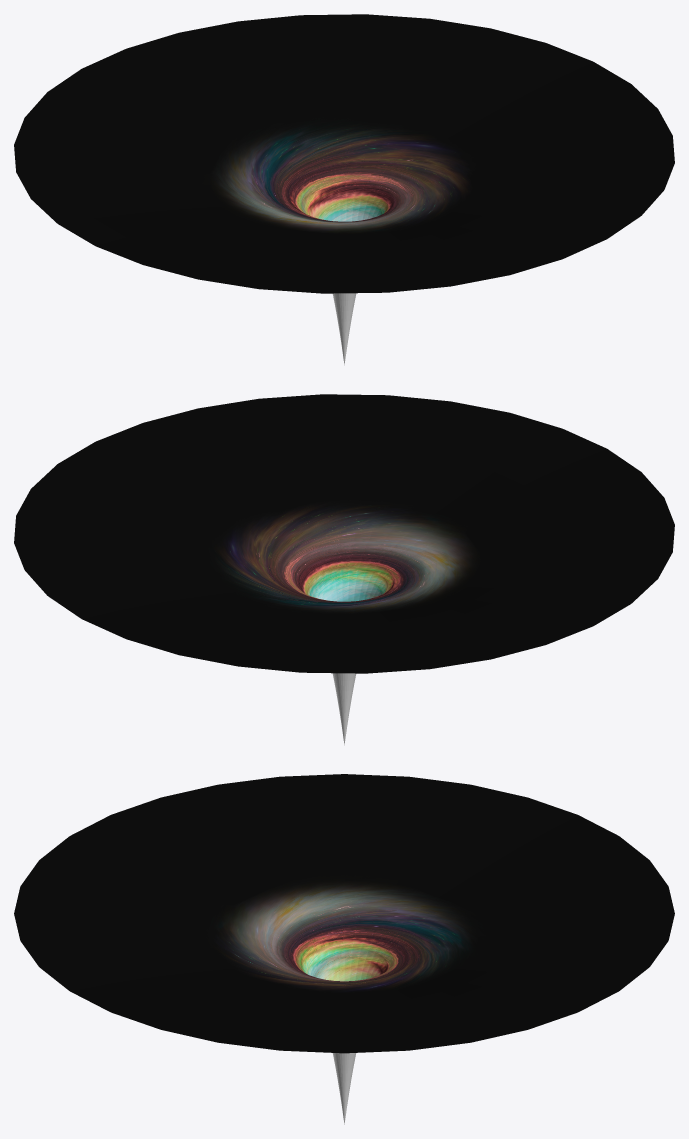
The model's file is wormhole.glb.
3 renders of one model, top to bottom at view 1: azimuth 30°, elevation 25°; view 2: azimuth 150°, elevation 25°; view 3: azimuth 270°, elevation 25°, orthographic.
Parts seen in each view (by area): view 1: Circle; view 2: Circle; view 3: Circle.
Part boxes in pixels (<box>): Circle: <box>14,14,674,365</box>; Circle: <box>14,394,674,745</box>; Circle: <box>14,774,674,1124</box>.
Size of the model in its own units: 48.41 by 17.07 by 48.41.
1 material, 1 textured.
